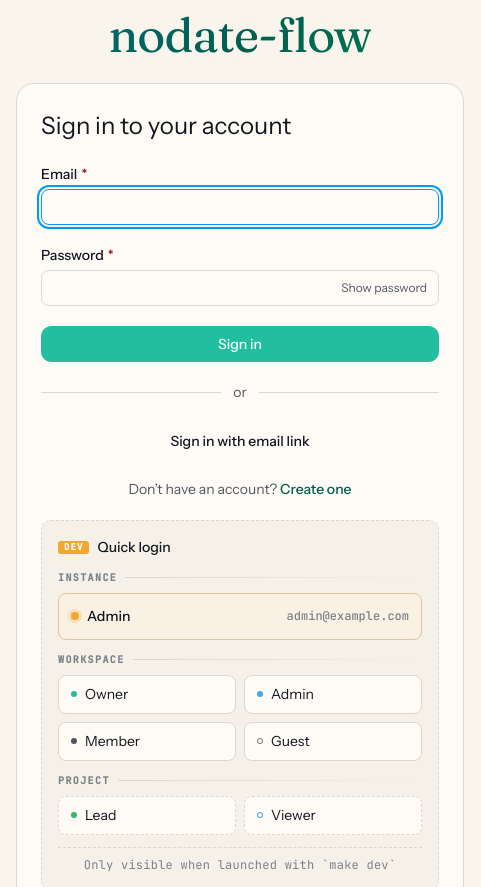
it: login TOTP code aria wiring › exposes a "needs digits" status when length < 6 and links it via aria-describedby
The image size is (481, 887).
In the field labelled "Email*": [240, 207] box x1=41 y1=189 x2=439 y2=225, type "user@example.test"
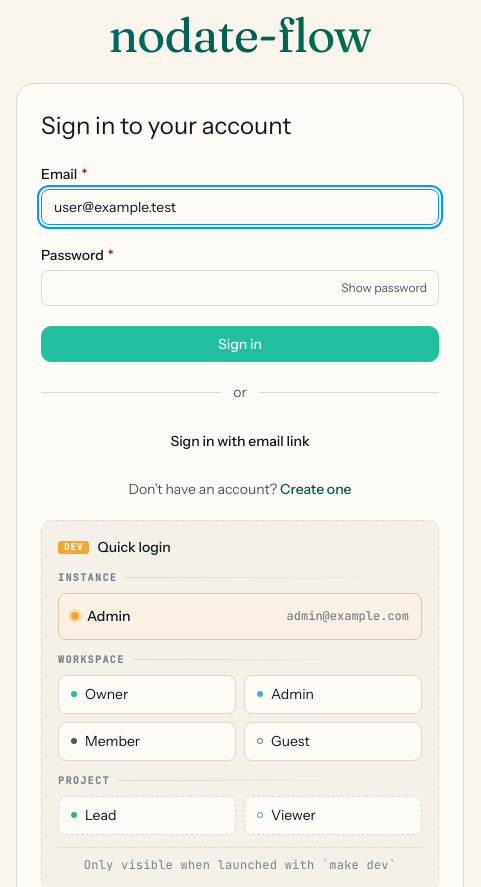
In the password field labelled "Password*": [240, 288] box x1=41 y1=270 x2=439 y2=306, type "pw-strong-1"
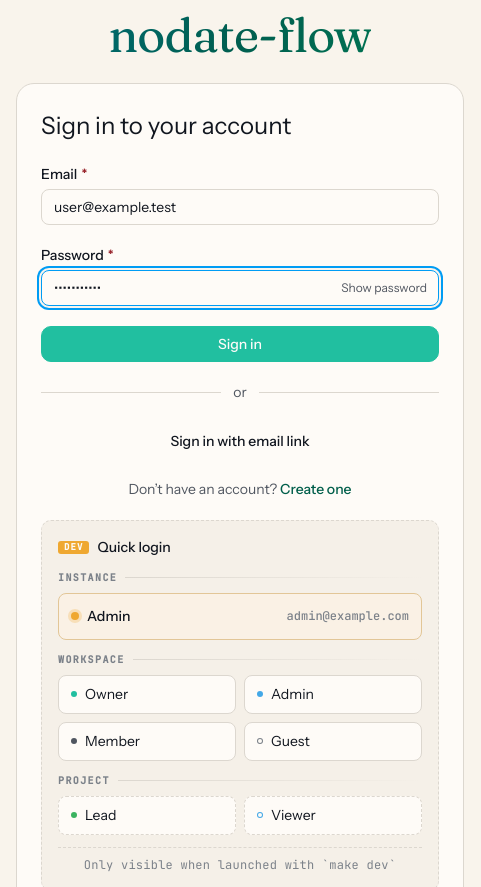
Click the button "Sign in": [240, 344] box x1=41 y1=326 x2=439 y2=362
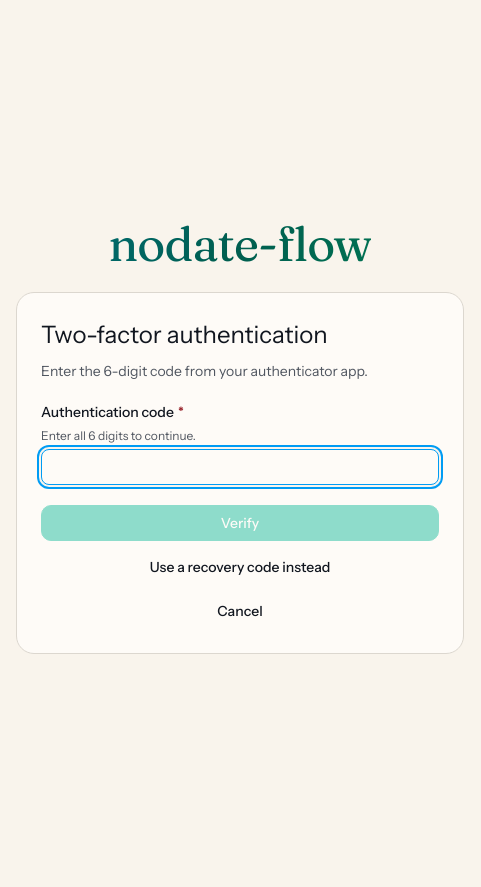
Check: the heading "Two-factor authentication" is shown, box x1=41 y1=320 x2=328 y2=349
Check: the text "Enter all 6 digits to continue." is shown, box x1=41 y1=428 x2=196 y2=443
In the field labelled "Authentication code*": [240, 467] box x1=41 y1=449 x2=439 y2=485, type "123456"
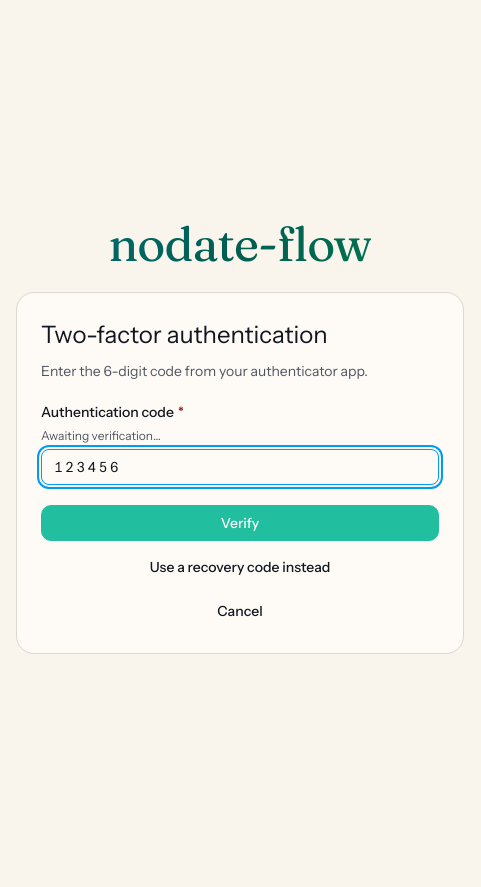
Check: the text "Awaiting verification…" is shown, box x1=41 y1=428 x2=161 y2=443
